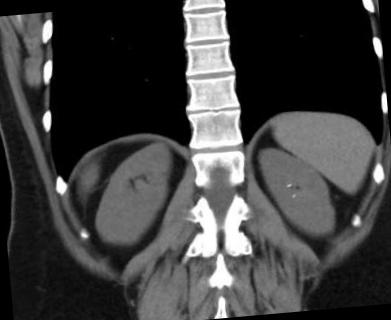Tas_Var: (284, 182, 292, 190), (291, 194, 296, 198)
